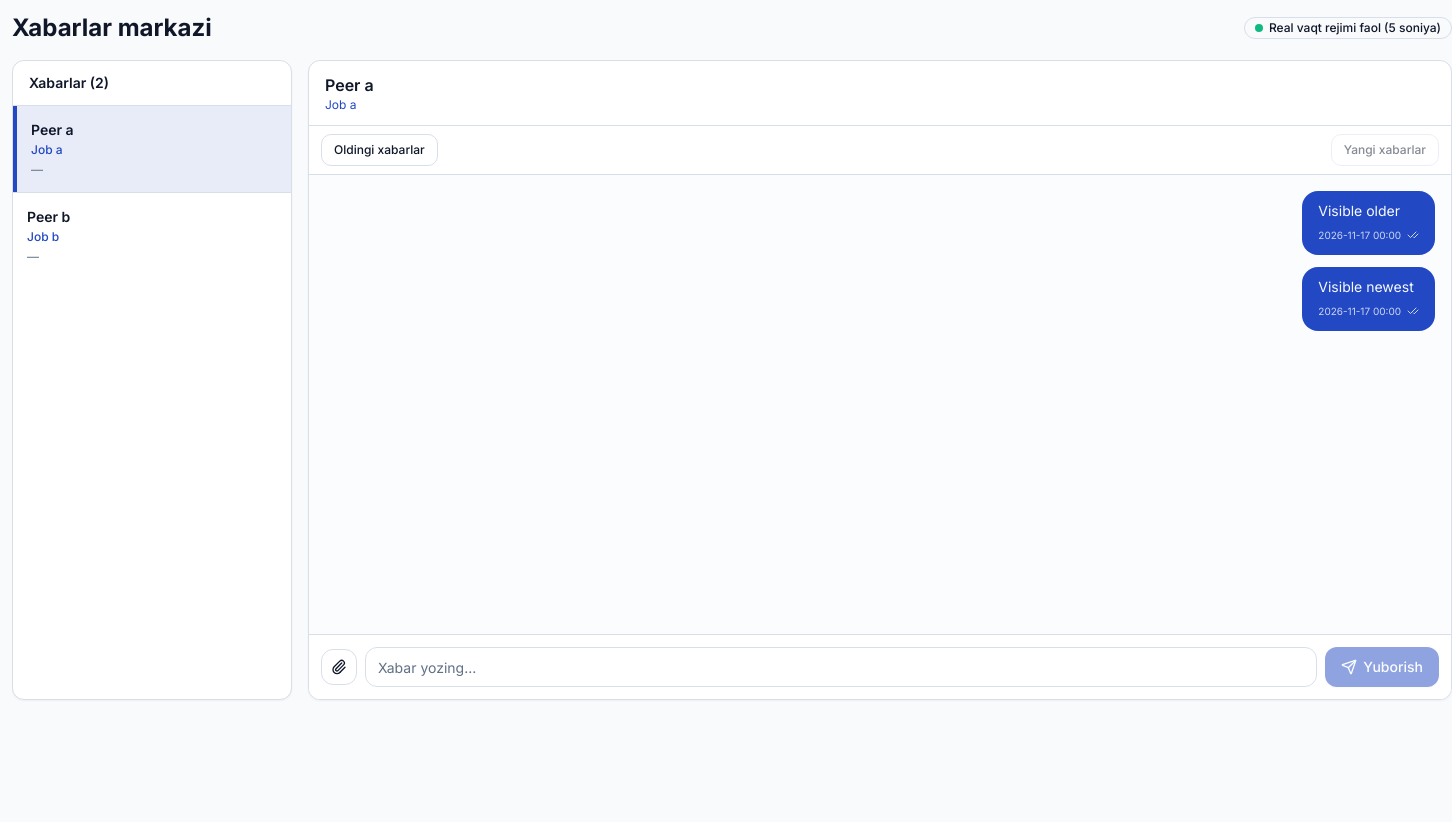
Scenario: Chat drafts and long histories › requests the newest page, displays it chronologically and can load older history
Expected: the text "Visible newest" is shown, [1318, 277, 1419, 297]
Expected: the elements "Visible " read "Visible older", "Visible newest", in this order, [1318, 202, 1400, 219]; [1318, 277, 1419, 297]
Click the button "Oldingi xabarlar" at [379, 150], box [321, 134, 438, 166]
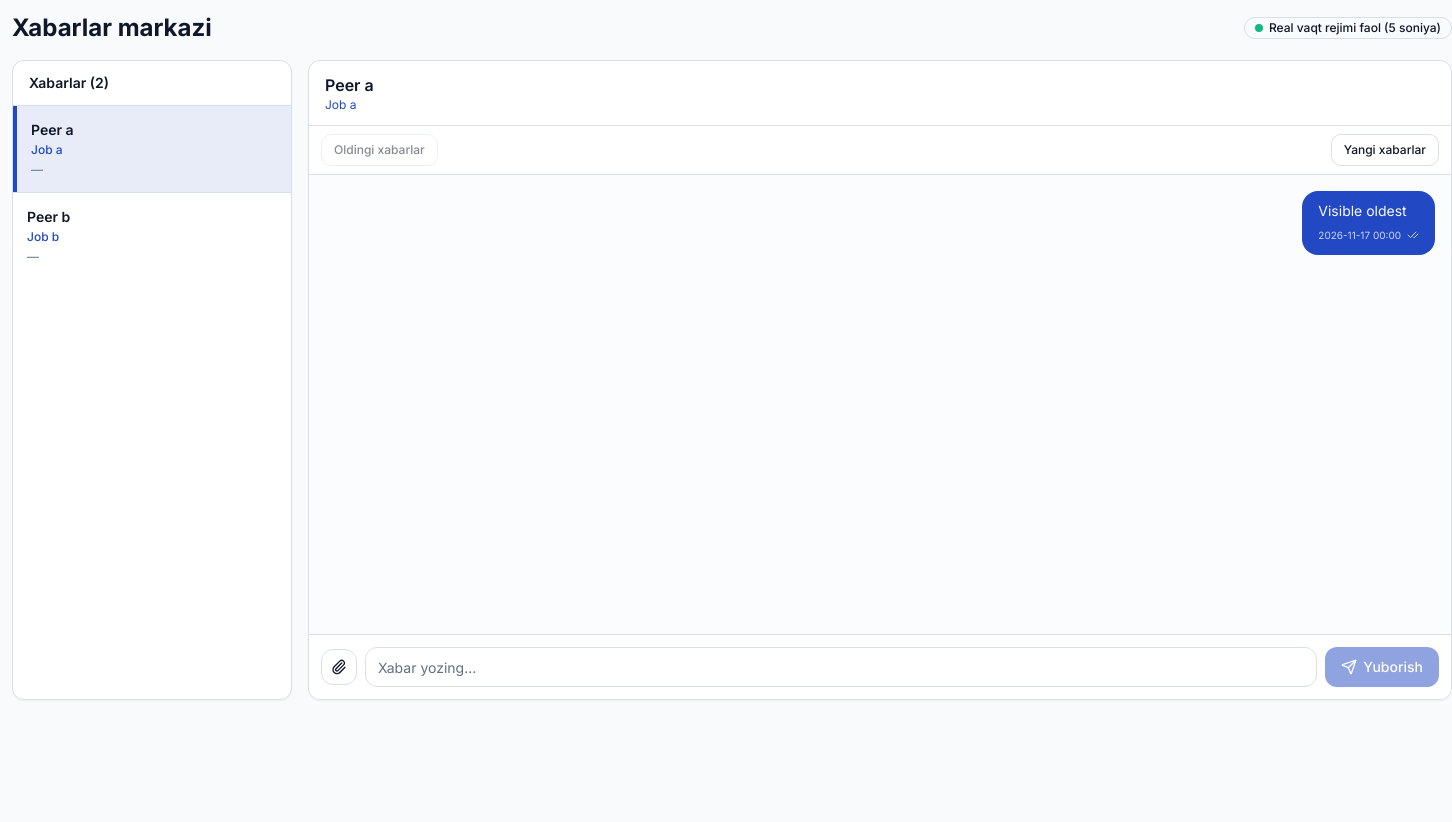
Expected: the text "Visible oldest" is shown, [1318, 201, 1419, 221]
Click the button "Yangi xabarlar" at [1385, 150], box [1331, 134, 1439, 166]
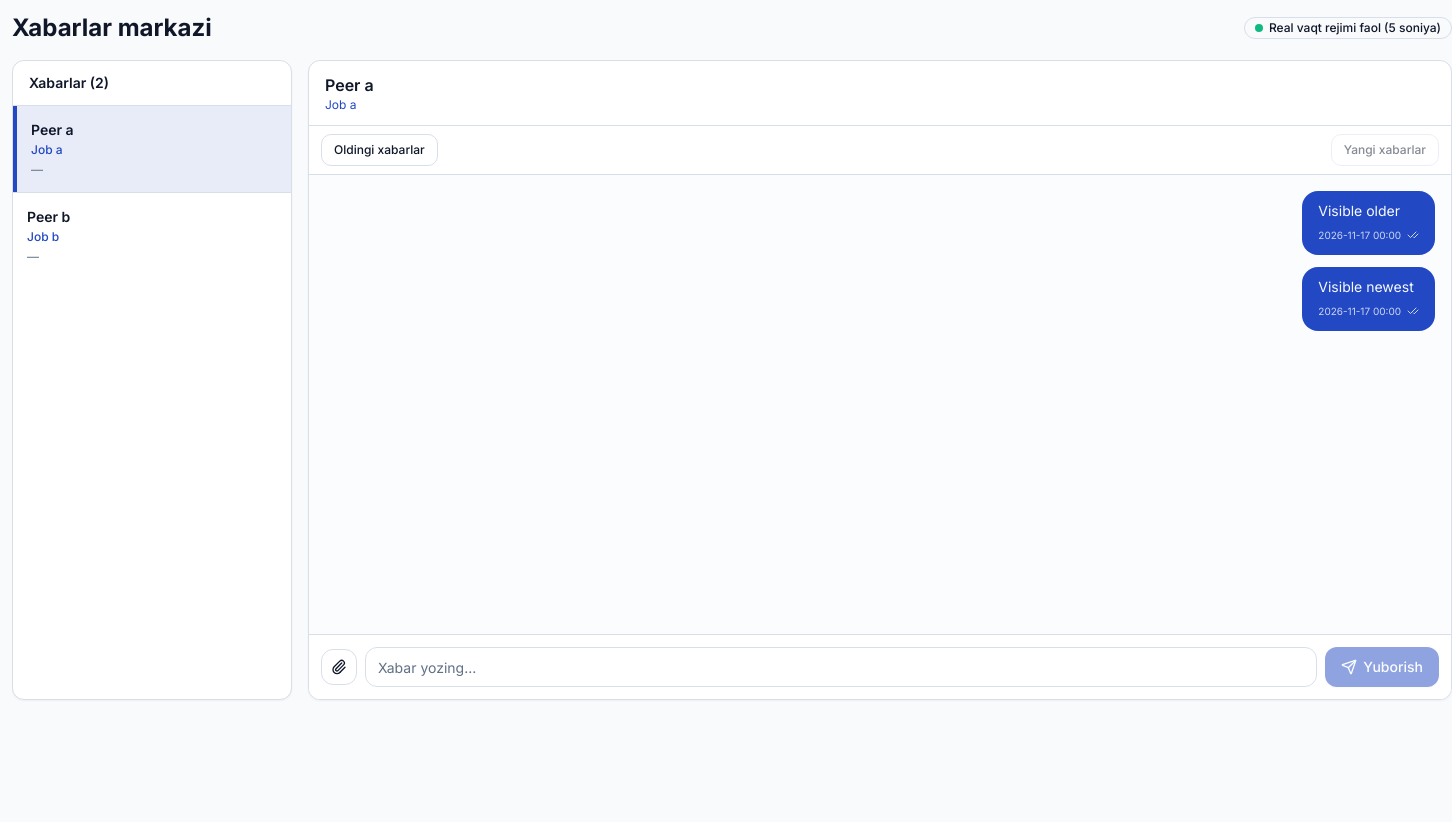
Expected: the text "Visible newest" is shown, [1318, 277, 1419, 297]
